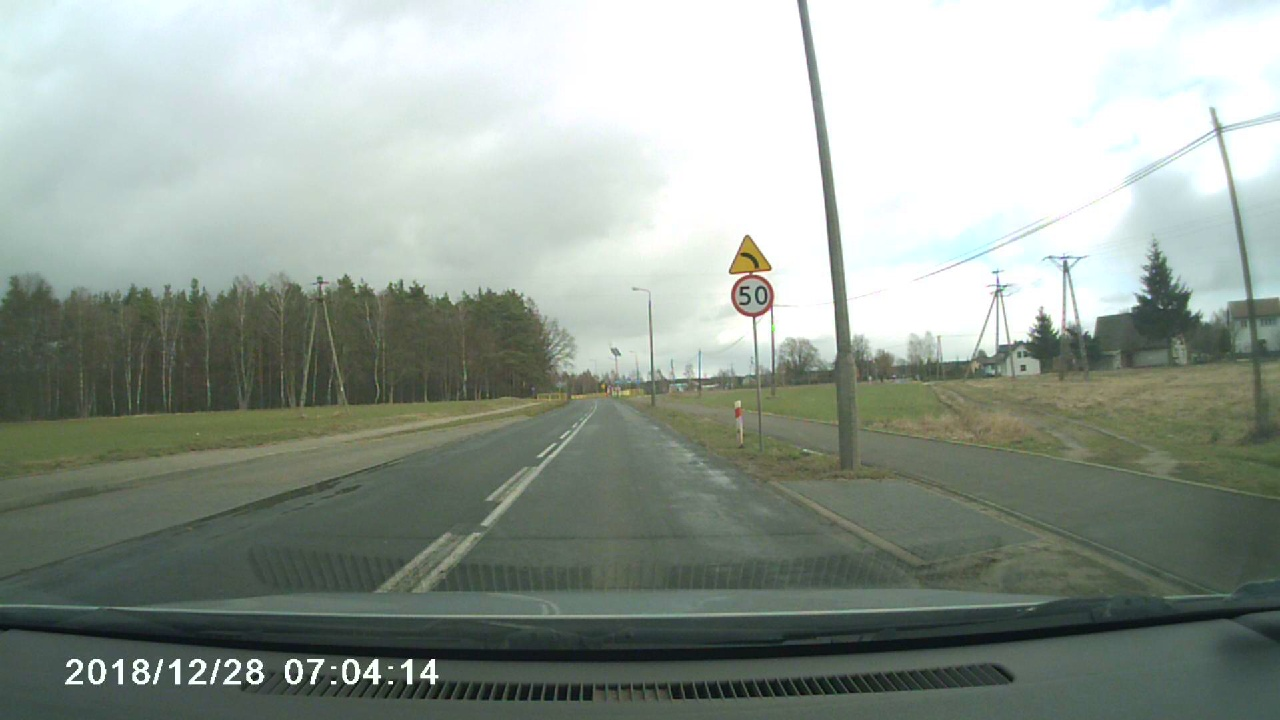A2: (718, 228, 776, 275)
B33_50: (729, 272, 780, 317)
